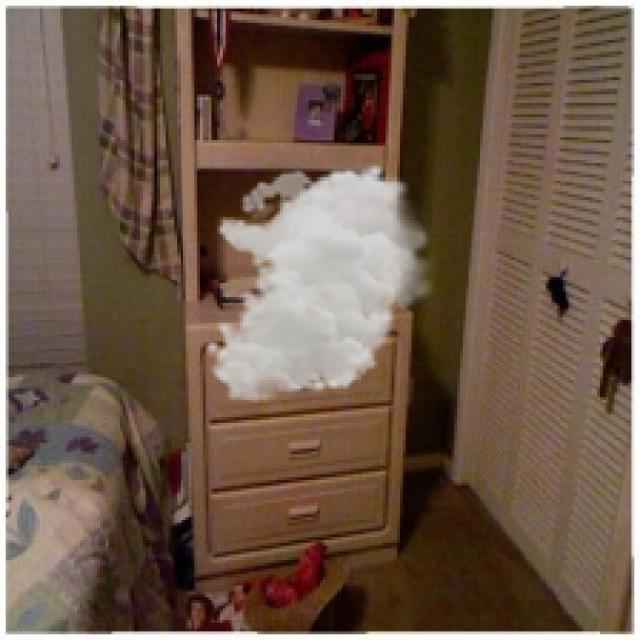Smoke: (203, 163, 440, 403)
